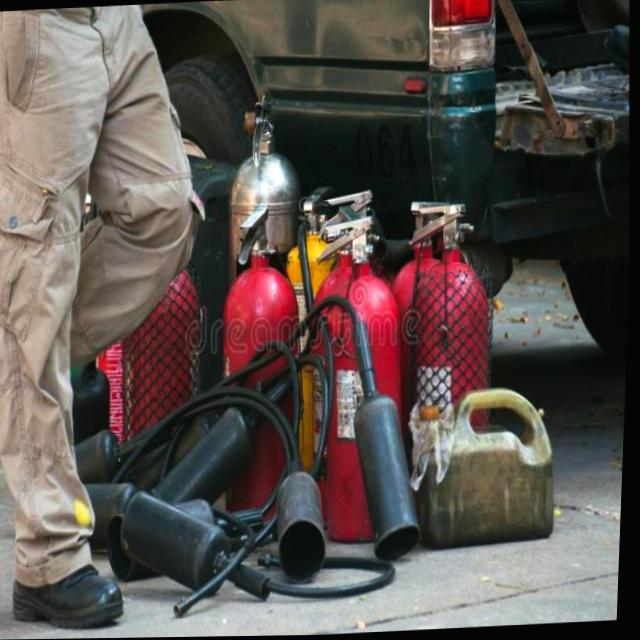FireExtinguisher: (208, 197, 341, 598), (302, 206, 435, 574), (218, 87, 323, 525), (116, 170, 224, 564), (397, 193, 519, 513), (269, 174, 356, 546)
